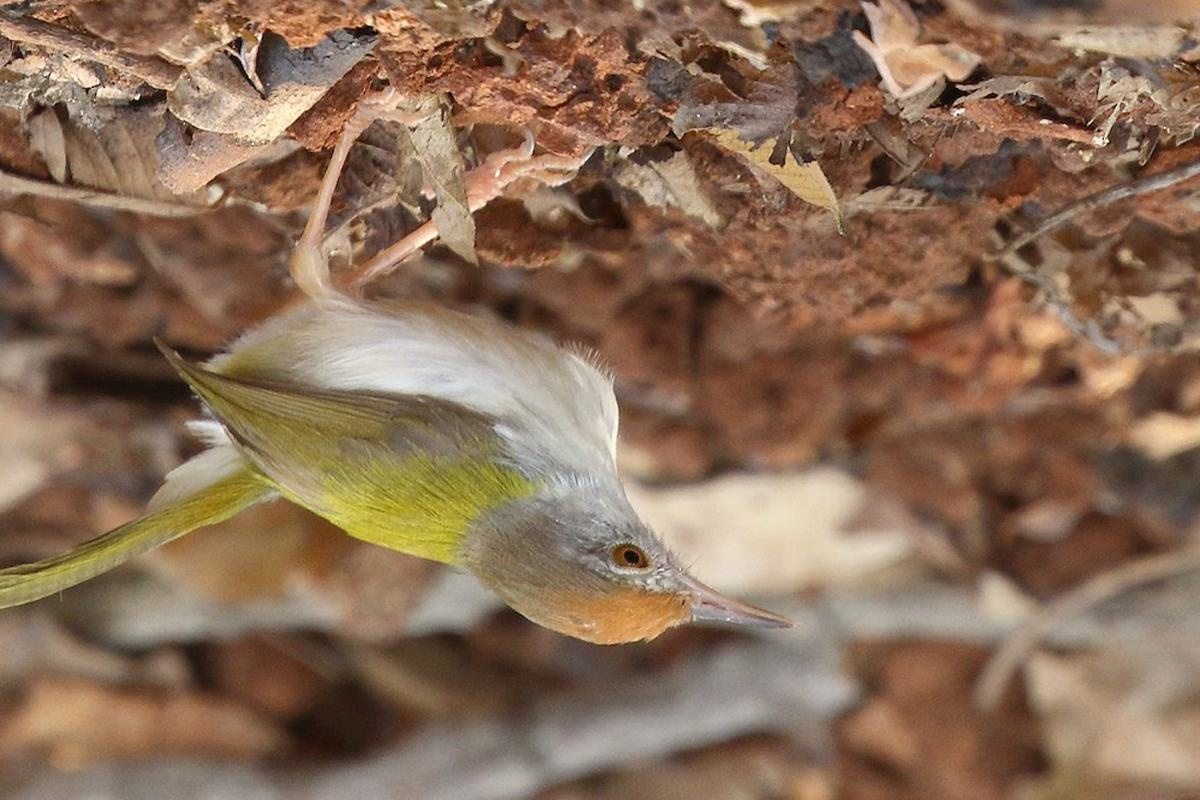tailorbird: (7, 156, 809, 686)
